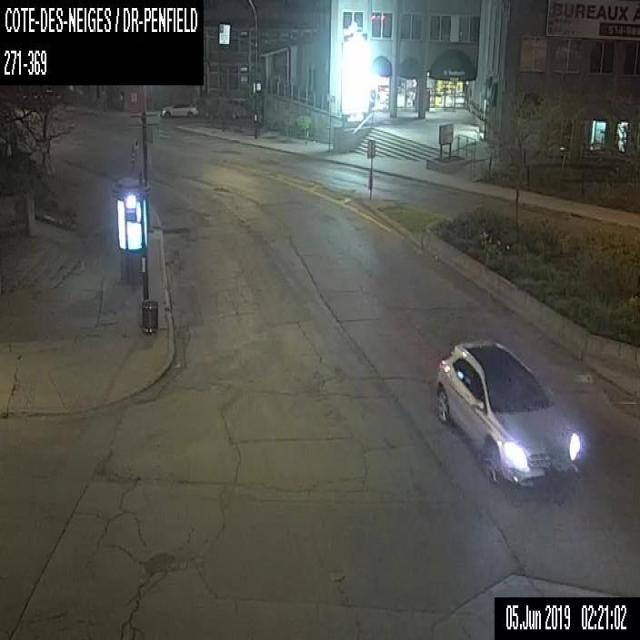vehicle: (434, 338, 581, 486), (160, 101, 199, 118), (226, 95, 248, 121)
